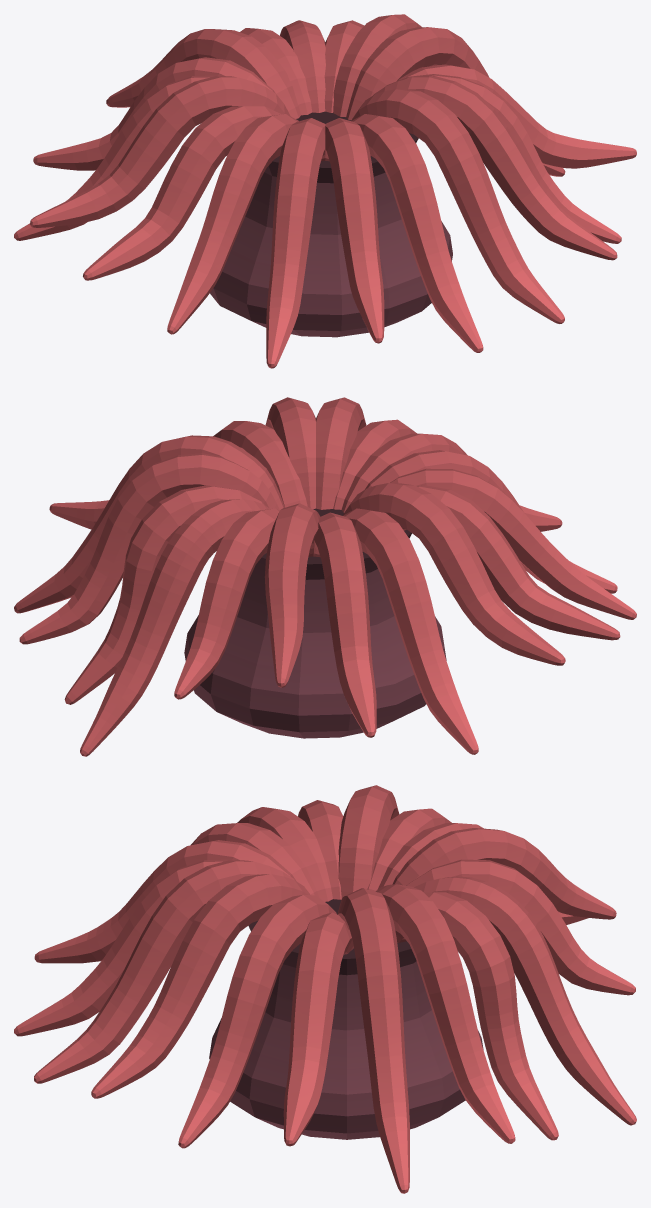
Rendered from anemone.glb.
The picture shows the model from 3 angles, top to bottom: view 1: azimuth 30°, elevation 25°; view 2: azimuth 150°, elevation 25°; view 3: azimuth 270°, elevation 25°; orthographic projection. The views are drawn at different scales.
Visible parts, largest first — view 1: anemone_merged; view 2: anemone_merged; view 3: anemone_merged.
Boxes of the visible parts, <box> form: anemone_merged: <box>14,14,636,368</box>; anemone_merged: <box>14,397,636,756</box>; anemone_merged: <box>14,785,636,1193</box>.
Size of the model in its own units: 3.15 by 1.33 by 2.87.
Materials: 1 (1 with a texture image).
